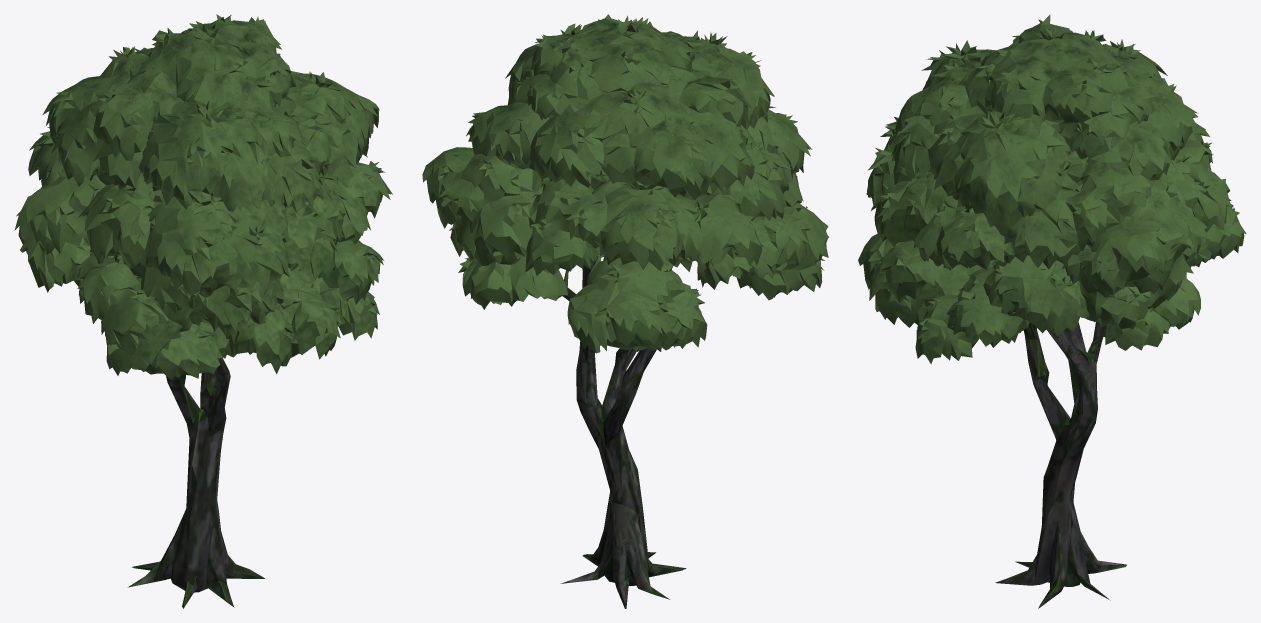
File: tree-common-b.glb
3 views of the same model, side by side, from view 1: azimuth 30°, elevation 25°; view 2: azimuth 150°, elevation 25°; view 3: azimuth 270°, elevation 25° (orthographic).
Parts seen in each view (by area): view 1: Mesh_0; view 2: Mesh_0; view 3: Mesh_0.
Part boxes in pixels (bbox=[...]): Mesh_0: bbox=[14, 14, 392, 608]; Mesh_0: bbox=[422, 14, 829, 608]; Mesh_0: bbox=[858, 14, 1246, 608].
Bounding box in the file's own units: 2.99 × 5 × 3.16.
Materials: 1 (1 with a texture image).
